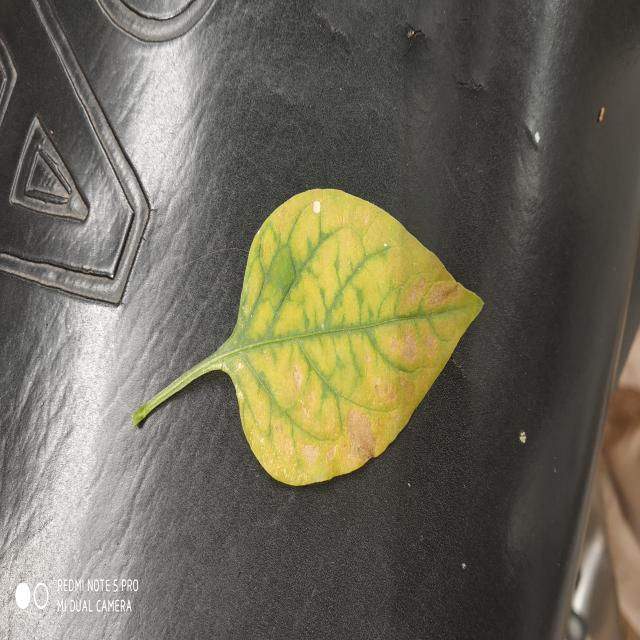ganike: (132, 189, 482, 484)
